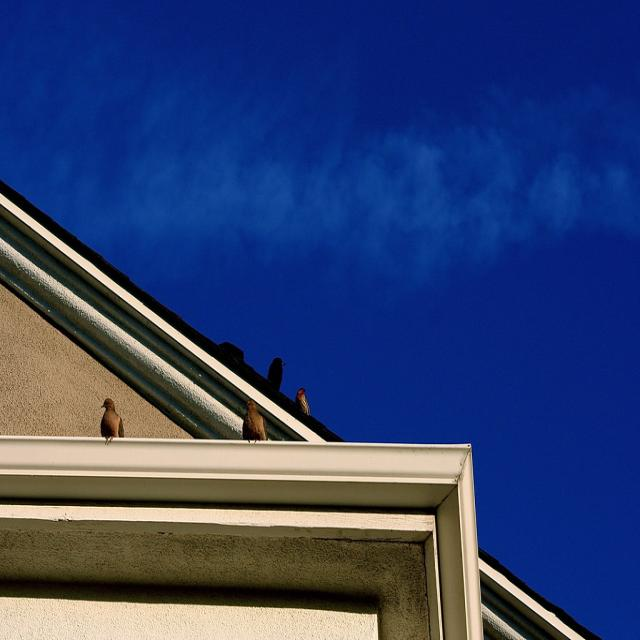bird: (241, 397, 269, 444), (99, 397, 125, 444), (266, 356, 286, 393), (294, 386, 311, 418)
